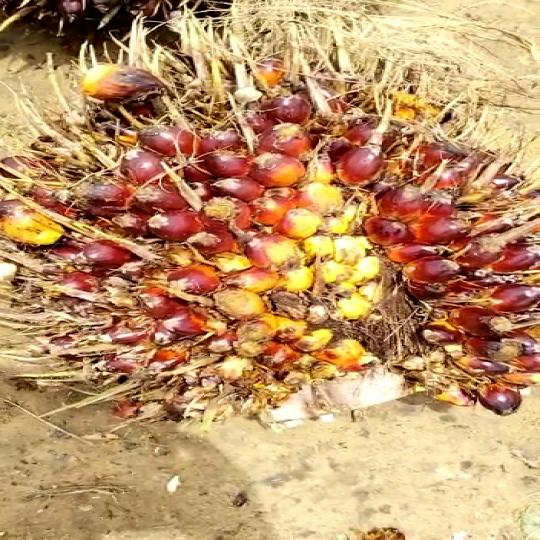masak: (0, 36, 540, 425)
